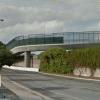Bridge: (5, 26, 95, 59)
